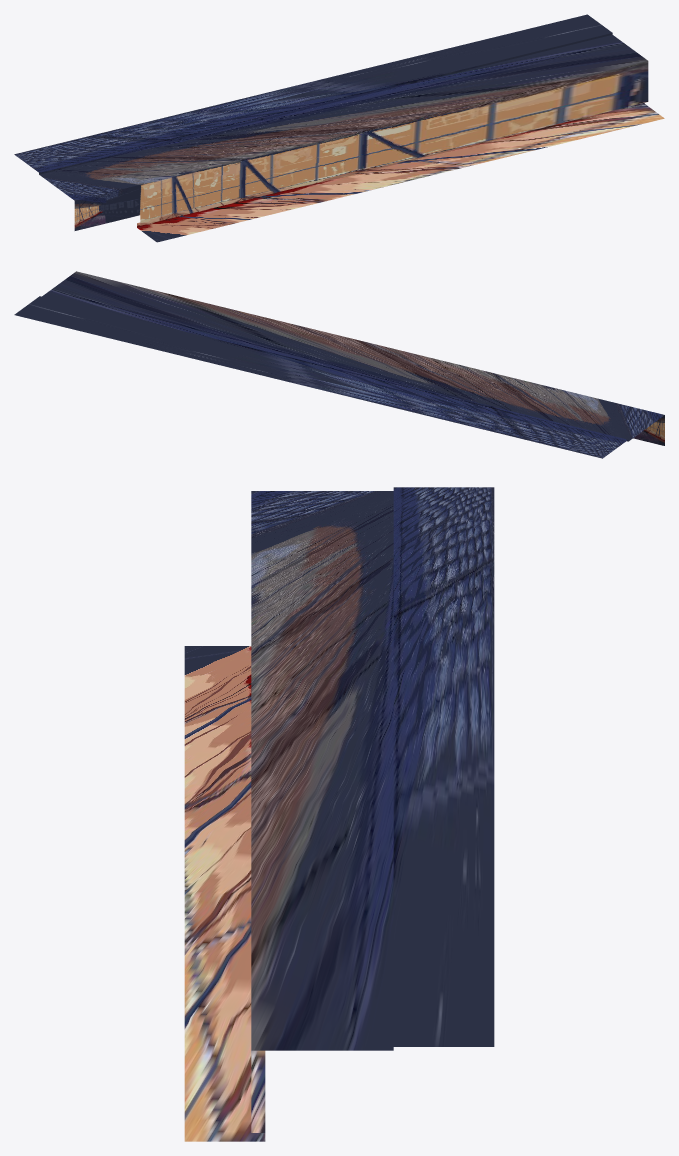
Rendered from 3d_pixel_scene.glb.
The picture shows the model from 3 angles, top to bottom: view 1: azimuth 30°, elevation 25°; view 2: azimuth 150°, elevation 25°; view 3: azimuth 270°, elevation 25°; orthographic projection. The views are drawn at different scales.
Parts seen in each view (by area): view 1: Plane; view 2: Plane; view 3: Plane.
Boxes of the visible parts, x1=… form: Plane: x1=14, y1=14, x2=664, y2=242; Plane: x1=14, y1=271, x2=664, y2=458; Plane: x1=184, y1=487, x2=494, y2=1141.
Size of the model in its own units: 39.46 by 3.12 by 9.23.
Materials: 1 (1 with a texture image).
